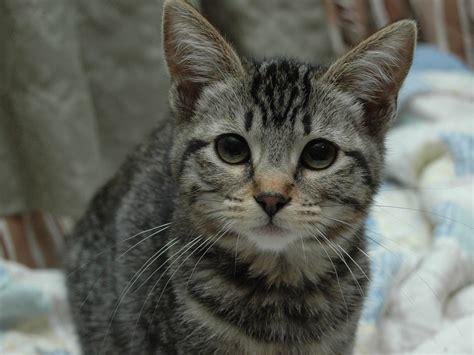cat: (63, 1, 417, 355)
